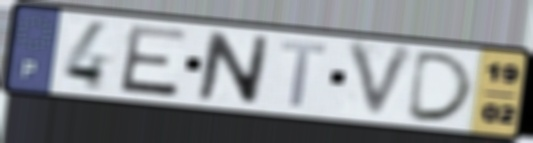4: (56, 18, 114, 93)
D: (403, 49, 478, 124)
E: (116, 22, 191, 99)
N: (193, 29, 273, 108)
T: (278, 38, 331, 110)
V: (343, 39, 420, 123)
